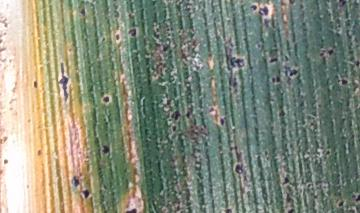tarspot: (56, 61, 70, 106), (233, 144, 244, 162), (127, 26, 139, 39), (234, 57, 246, 69), (259, 5, 271, 17), (170, 109, 181, 122), (287, 67, 299, 78), (70, 175, 80, 188), (80, 188, 91, 199), (228, 77, 240, 87), (234, 163, 244, 175), (284, 191, 293, 204), (161, 42, 171, 53), (281, 176, 291, 187), (278, 106, 286, 119), (101, 94, 111, 104), (101, 144, 111, 154), (123, 207, 139, 213), (336, 198, 345, 207), (79, 7, 86, 18), (184, 109, 191, 119), (268, 57, 278, 64), (286, 206, 296, 213), (250, 3, 258, 11), (32, 80, 39, 89), (170, 124, 177, 133), (283, 54, 290, 63), (114, 32, 120, 42), (219, 117, 225, 127), (354, 192, 360, 202), (337, 1, 347, 7), (340, 78, 348, 85), (2, 135, 8, 144), (275, 75, 281, 84), (327, 48, 334, 55), (324, 149, 331, 156), (353, 205, 360, 212), (270, 76, 276, 84), (287, 1, 296, 6), (36, 149, 42, 156), (3, 158, 9, 165), (25, 183, 31, 190), (257, 10, 264, 16), (354, 60, 360, 67), (312, 194, 319, 200), (224, 208, 232, 213), (101, 36, 107, 42), (298, 4, 304, 10), (309, 121, 315, 127), (228, 145, 234, 151), (26, 118, 32, 123), (263, 150, 268, 156), (301, 22, 307, 27), (67, 47, 73, 52), (319, 52, 324, 57), (1, 168, 4, 176), (1, 138, 3, 145)
